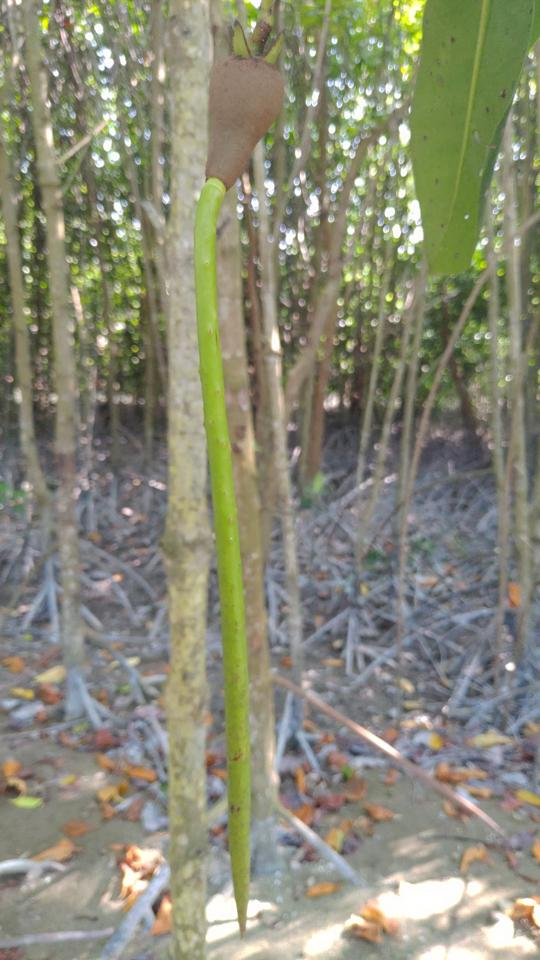setengah matang: (190, 25, 296, 926)
